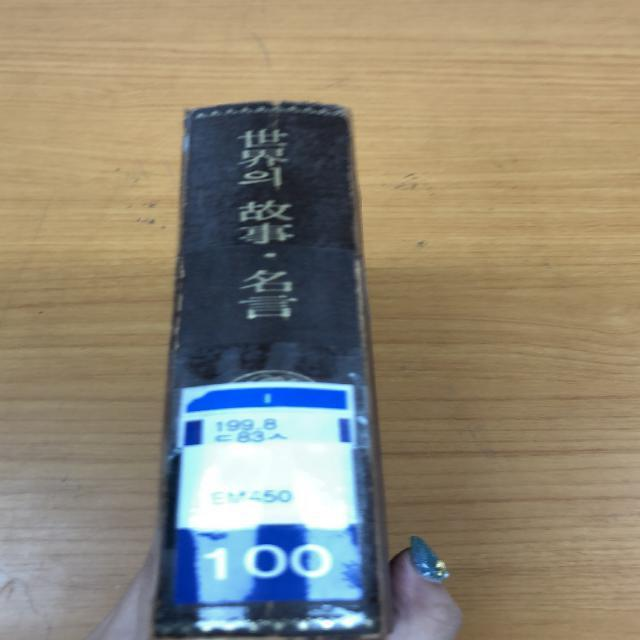Ripped: (261, 98, 287, 138)
Wornout: (164, 254, 192, 351), (348, 260, 376, 351), (174, 102, 218, 139)
